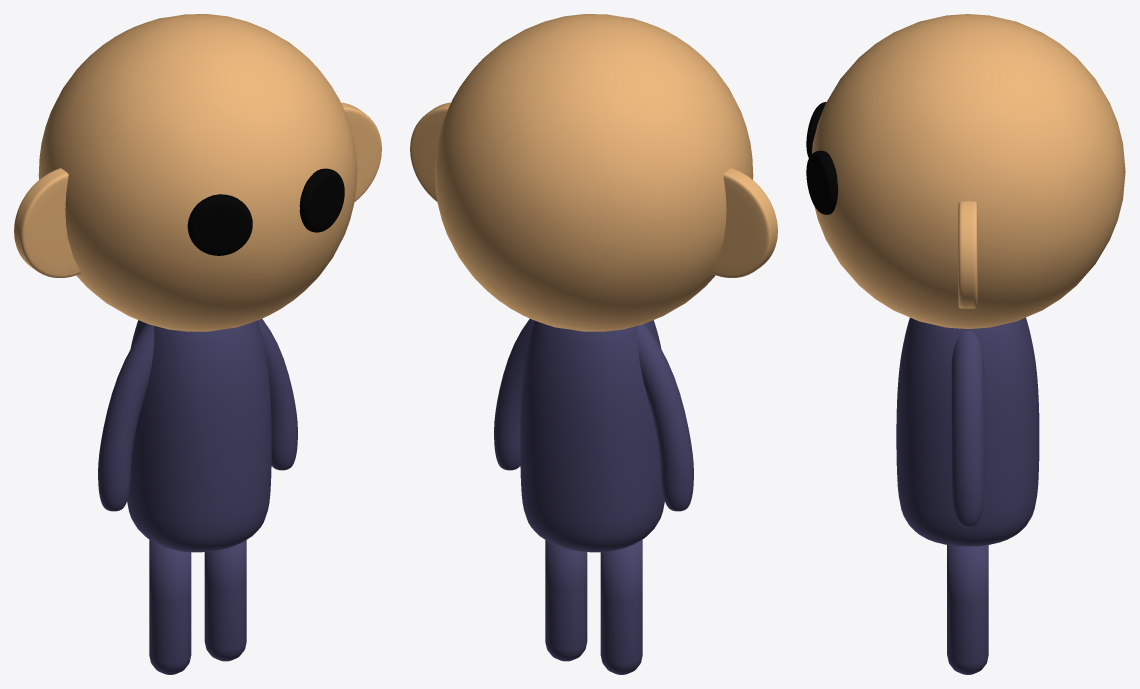
File: Player.fbx
3 views of the same model, side by side, from view 1: azimuth 30°, elevation 25°; view 2: azimuth 150°, elevation 25°; view 3: azimuth 270°, elevation 25° (orthographic).
Parts seen in each view (by area): view 1: Cylinder.004, Cylinder.005; view 2: Cylinder.004; view 3: Cylinder.004, Cylinder.005.
Part boxes in pixels (<box>): Cylinder.004: <box>14,14,381,674</box>; Cylinder.005: <box>187,168,344,255</box>; Cylinder.004: <box>410,14,777,674</box>; Cylinder.004: <box>812,14,1125,674</box>; Cylinder.005: <box>806,102,837,214</box>.
Bounding box in the file's own units: 333 × 561 × 257.
